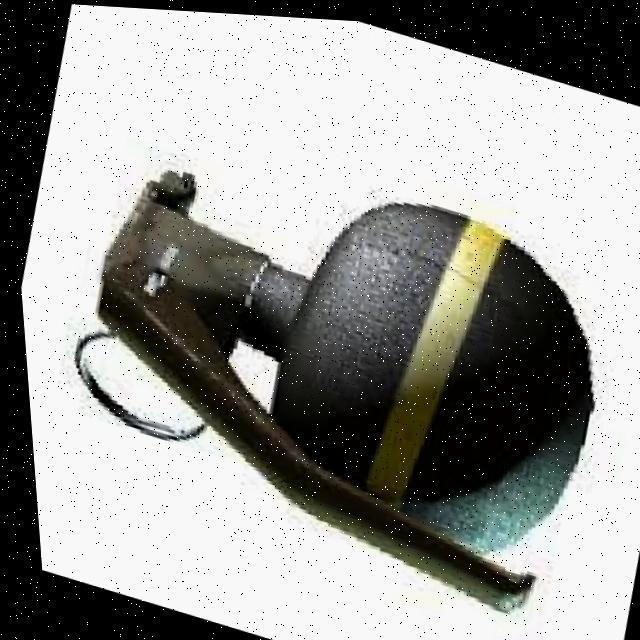grenade: (18, 100, 638, 631)
